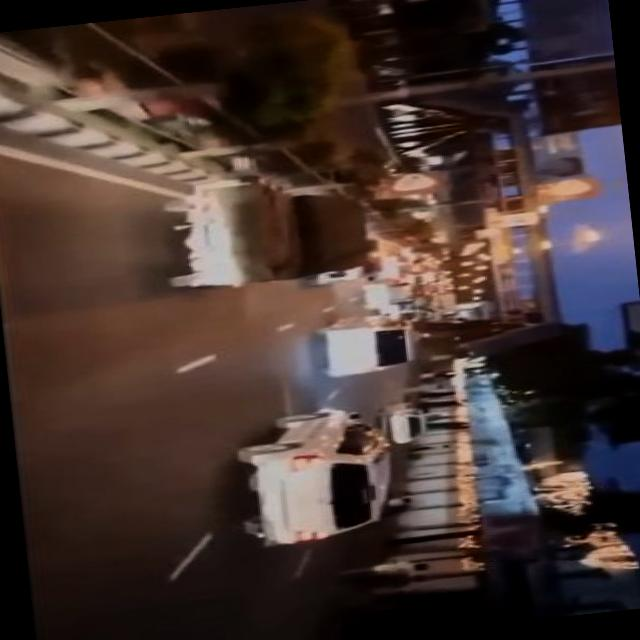car: (238, 402, 397, 548), (386, 399, 429, 446)
truck: (165, 172, 376, 294), (319, 312, 420, 380)
